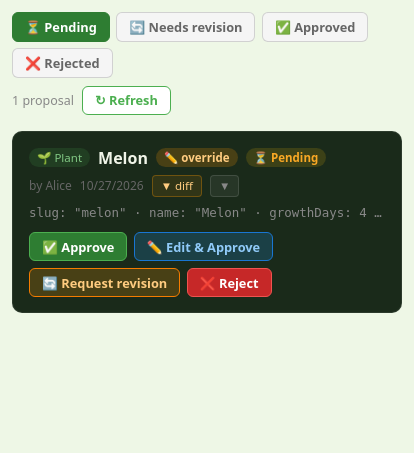
Test case: ProposalsPanel — diff view › shows diff toggle button for override proposals
Click the button "▼ diff": x=177, y=186 [152,175,202,197]
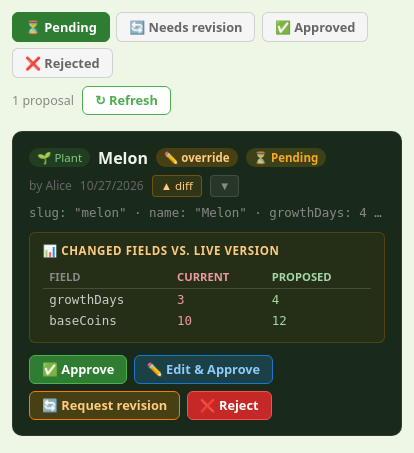
Check: the text "📊 Changed fields vs. live version" is shown, box [43,243,280,258]
